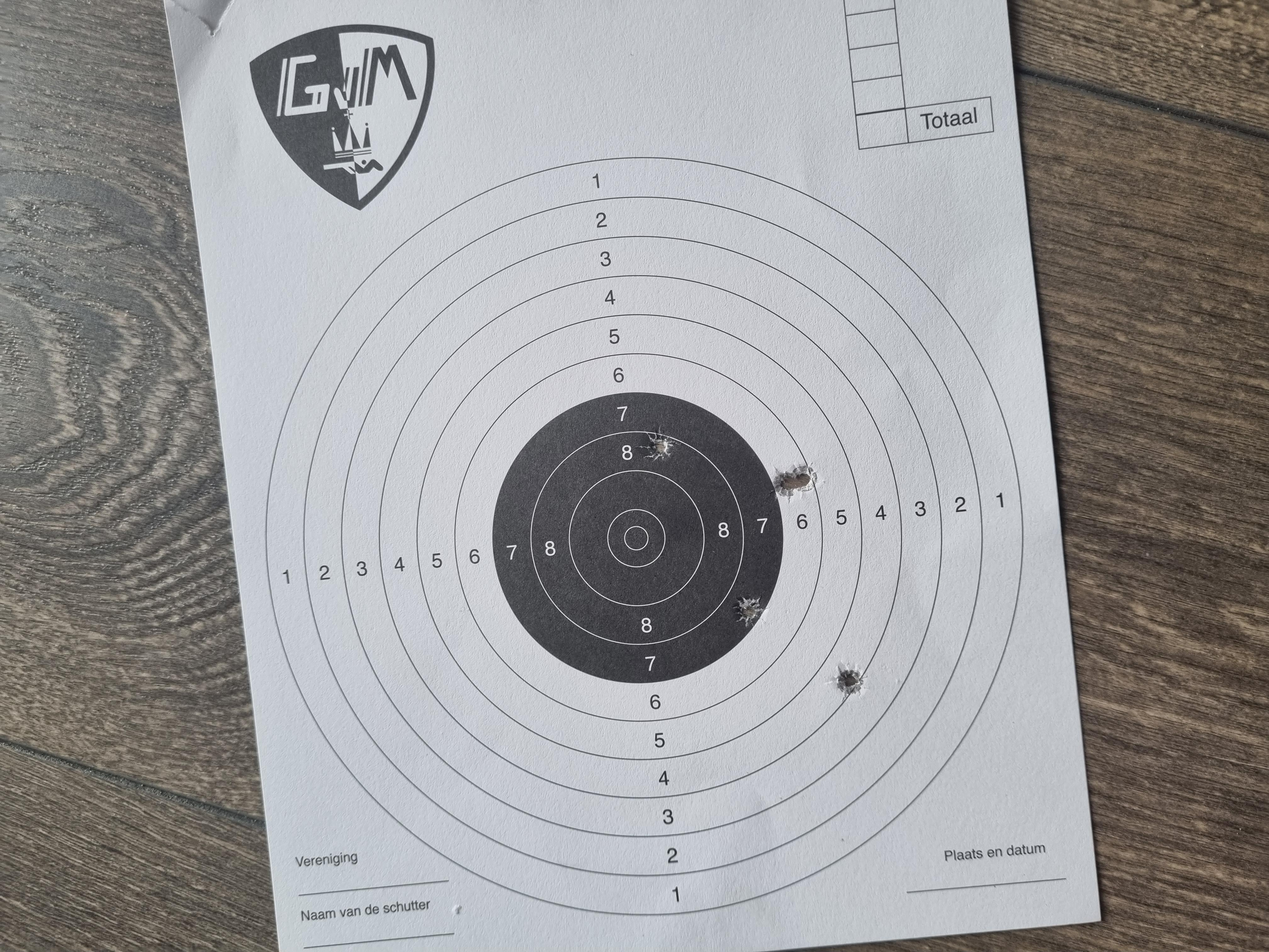hole: (656, 477, 700, 510), (434, 549, 474, 577), (333, 627, 382, 648), (609, 594, 650, 614), (605, 579, 647, 595)
